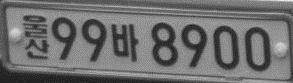0: (212, 25, 240, 69), (245, 26, 271, 72)
8: (150, 21, 178, 66)
9: (180, 23, 207, 67), (81, 18, 107, 62), (51, 16, 76, 59)
바: (111, 23, 139, 61)
울산_V: (22, 14, 50, 59)
